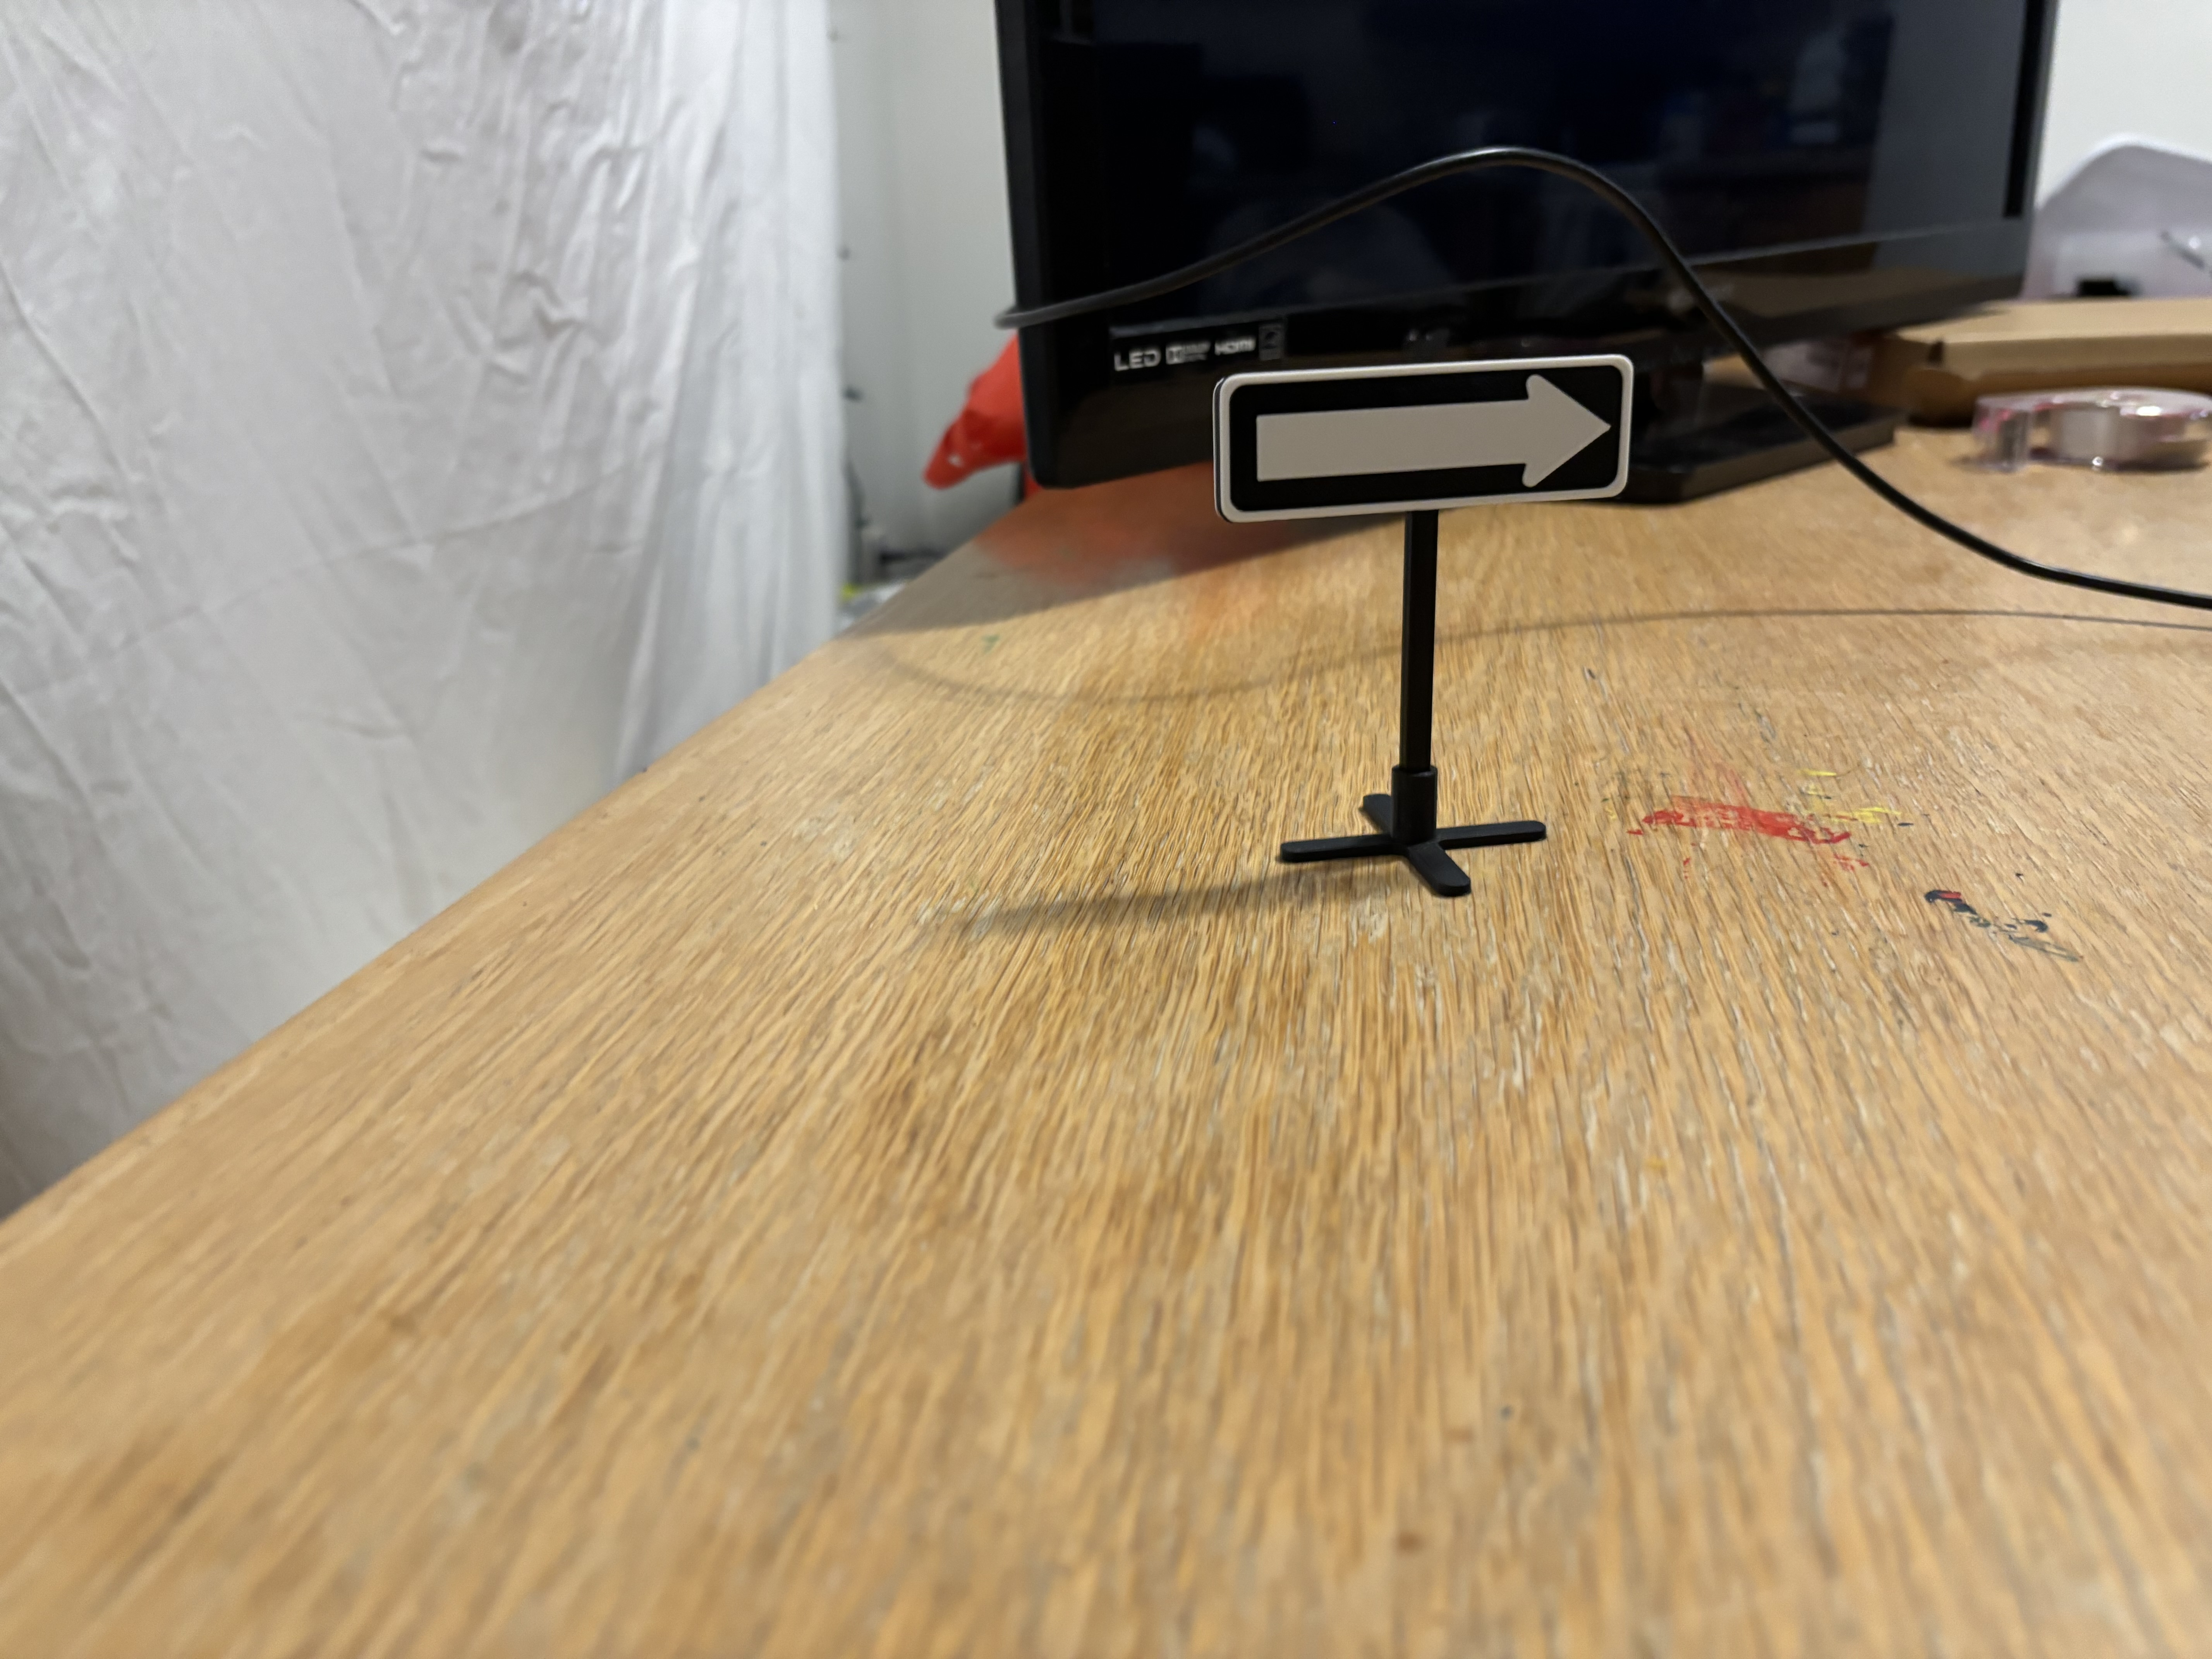sign_oneway_right: (1207, 364, 1642, 525)
